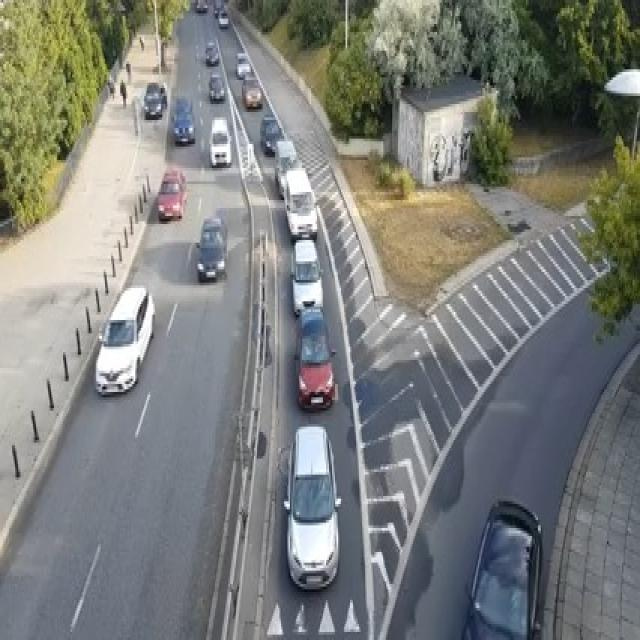car: (460, 499, 542, 637), (281, 424, 341, 589), (94, 285, 154, 395), (293, 306, 335, 411), (288, 237, 323, 315), (282, 165, 317, 240), (195, 213, 227, 280), (156, 168, 186, 219), (273, 139, 299, 197), (172, 96, 196, 144), (209, 118, 231, 166), (260, 112, 282, 155), (240, 72, 262, 109), (143, 80, 162, 117), (207, 72, 224, 101), (236, 51, 251, 77), (204, 40, 218, 64), (218, 5, 228, 27), (159, 82, 167, 106), (213, 0, 224, 16), (195, 0, 208, 11), (107, 75, 114, 93)
